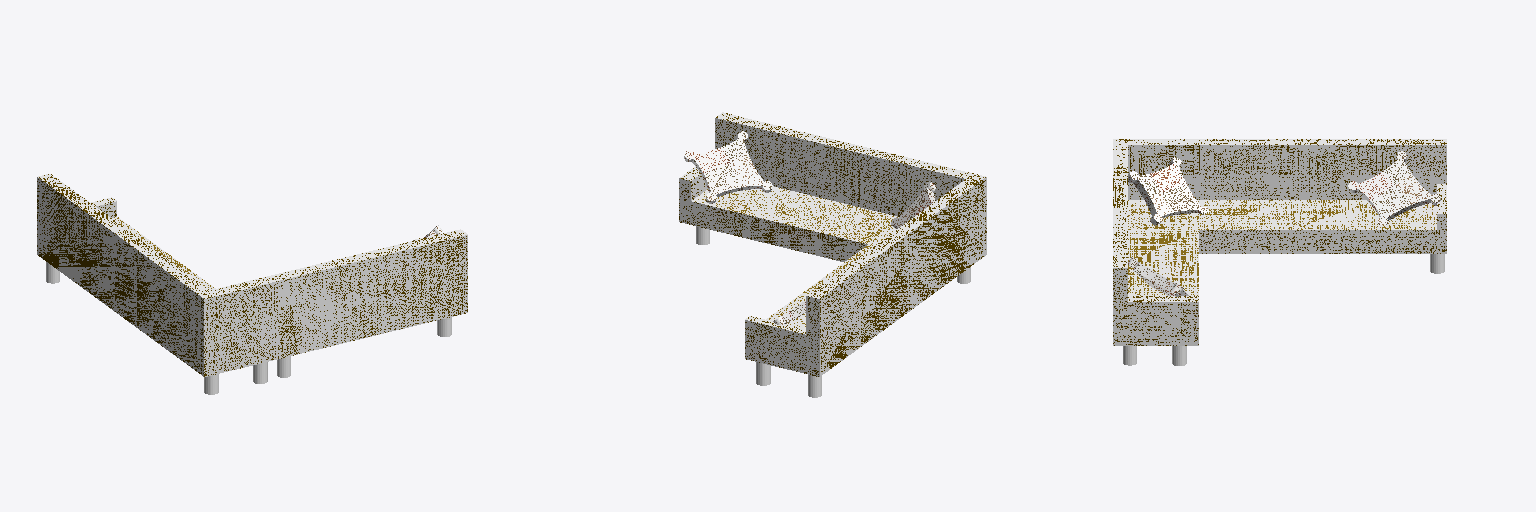
3 renders of one model, left to right at view 1: azimuth 30°, elevation 25°; view 2: azimuth 150°, elevation 25°; view 3: azimuth 270°, elevation 25°, orthographic.
Parts seen in each view (by area): view 1: mesh1_mesh1-geometry; view 2: mesh1_mesh1-geometry, mesh3_mesh3-geometry, mesh2_mesh2-geometry; view 3: mesh1_mesh1-geometry, mesh4_mesh4-geometry, mesh2_mesh2-geometry, mesh3_mesh3-geometry.
Part boxes in pixels (x1,y1,x2,y2): mesh1_mesh1-geometry: (37, 174, 467, 394); mesh1_mesh1-geometry: (679, 112, 986, 397); mesh3_mesh3-geometry: (684, 131, 772, 203); mesh2_mesh2-geometry: (891, 181, 935, 228); mesh1_mesh1-geometry: (1113, 139, 1446, 365); mesh4_mesh4-geometry: (1348, 151, 1440, 224); mesh2_mesh2-geometry: (1128, 157, 1208, 225); mesh3_mesh3-geometry: (1128, 257, 1188, 296).
Bounding box in the file's own units: 0.6626 × 0.2394 × 0.7097.
7 materials, 1 textured.